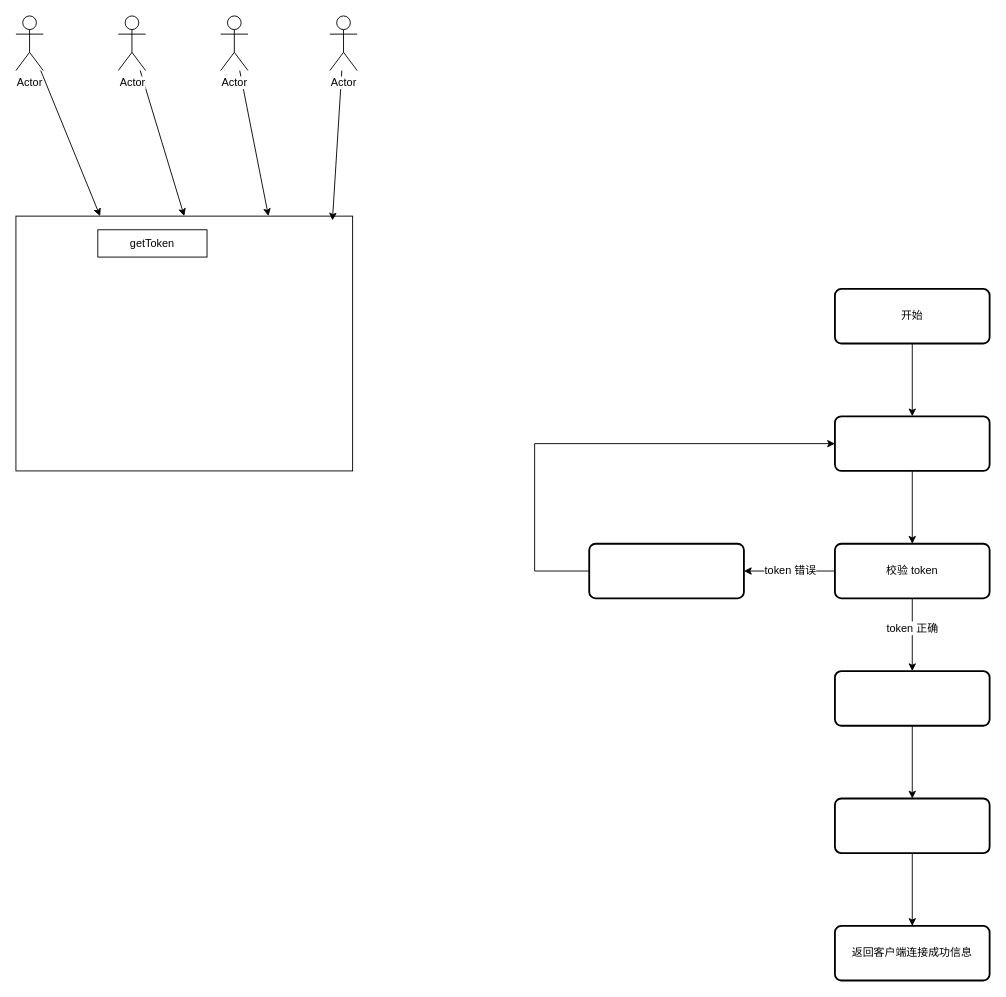
Image size: 1006x997. Some labels were removed from this diagram. The centre of each missing label's shape, as x and y in pixels:
"添加连接记录" belongs at pixel 912 825.
"获取 token" belongs at pixel 912 443.
"返回客户端 token 错误" belongs at pixel 666 570.
"连接 ws" belongs at pixel 912 698.
